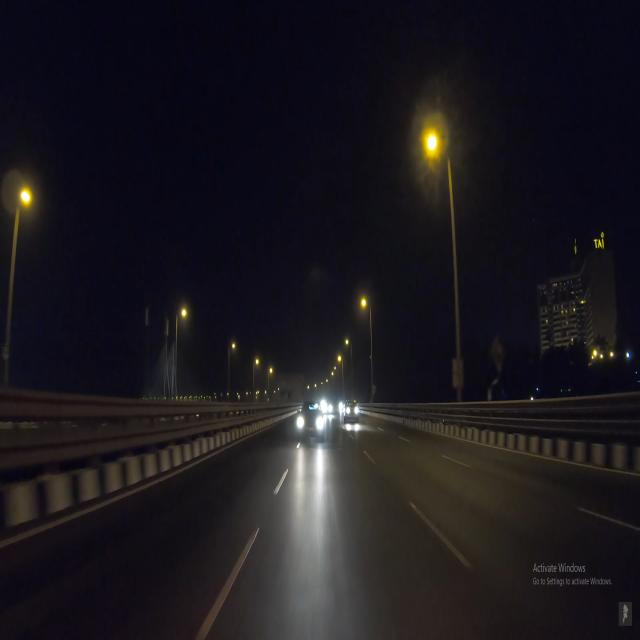headlights: (294, 410, 326, 438), (345, 402, 362, 421)
